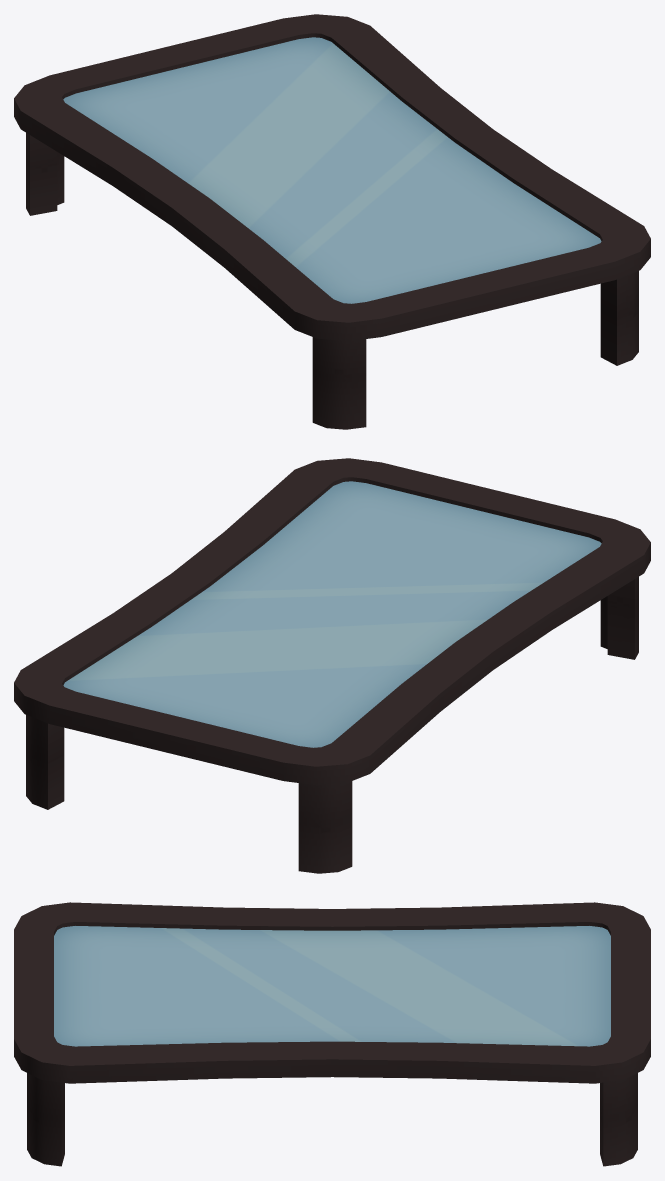
File: house table.fbx
The picture shows the model from 3 angles, top to bottom: view 1: azimuth 30°, elevation 25°; view 2: azimuth 150°, elevation 25°; view 3: azimuth 270°, elevation 25°; orthographic projection. The views are drawn at different scales.
Parts seen in each view (by area): view 1: House table; view 2: House table; view 3: House table.
Part boxes in pixels (x1,y1,x2,y2): House table: [14, 14, 650, 429]; House table: [14, 458, 650, 873]; House table: [14, 902, 650, 1166].
Bounding box in the file's own units: 1.99 × 0.6063 × 3.27.
1 material, 1 textured.
